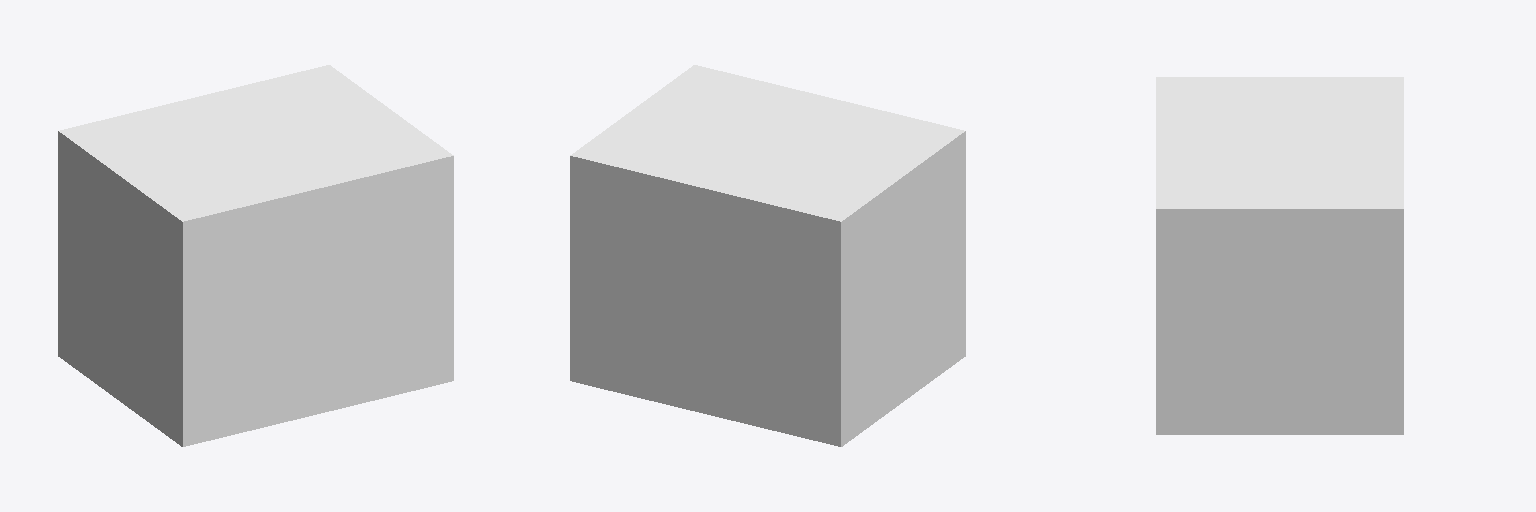
Rendered from woodenman-4.obj.
3 renders of one model, left to right at view 1: azimuth 30°, elevation 25°; view 2: azimuth 150°, elevation 25°; view 3: azimuth 270°, elevation 25°, orthographic.
Visible parts, largest first — view 1: object 1; view 2: object 1; view 3: object 1.
Boxes of the visible parts, x1=… form: object 1: x1=58, y1=65, x2=453, y2=446; object 1: x1=570, y1=65, x2=965, y2=446; object 1: x1=1156, y1=77, x2=1403, y2=434.
Bounding box in the file's own units: 3.4 × 2.7 × 2.7.